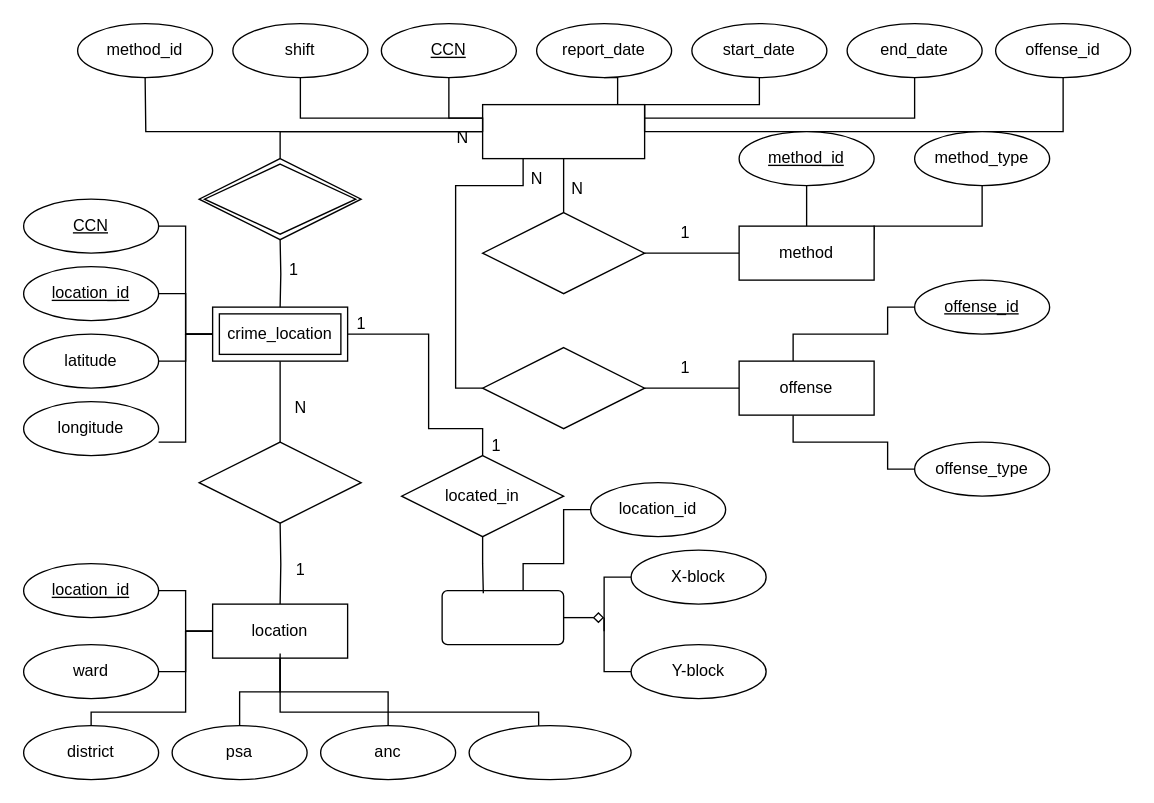
This 1154x803 diagram has some shape labels left out. The shapes that lost their labels are listed below. From the top down, each one's box as (x1, y1, x2, y2) in pixels, then its label:
(481, 103, 645, 159): Crime_Incident
(198, 157, 361, 240): occured_at
(481, 211, 645, 294): executed_with
(481, 346, 645, 429): classified_as
(198, 441, 361, 523): mapped_to
(441, 589, 564, 645): Block Group
(468, 724, 631, 780): neighborhood_cluster
